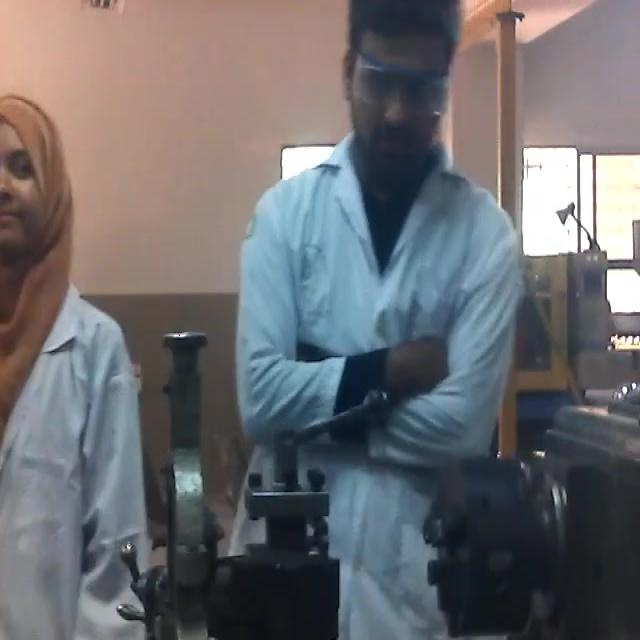googles: (231, 116, 530, 640), (348, 53, 453, 135)
